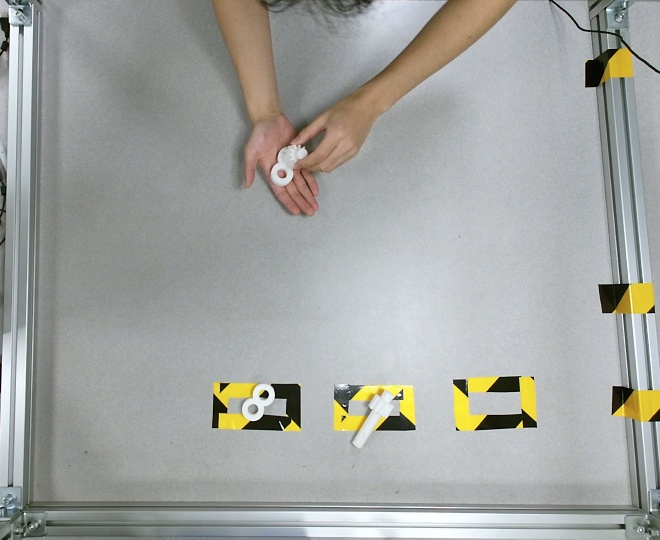stage_2: (269, 145, 308, 187)
